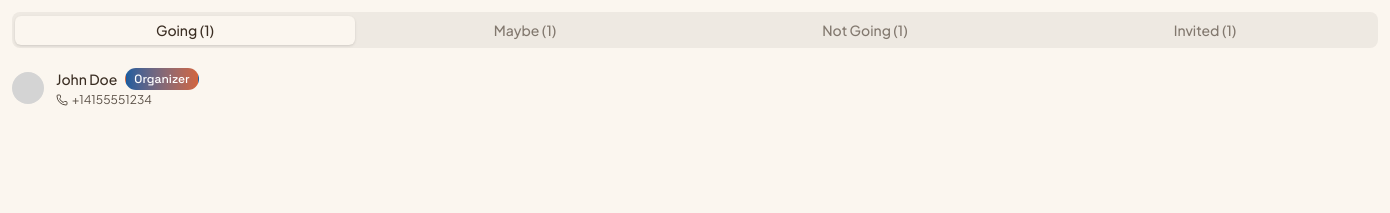
MembersList › co-organizer role management › shows promote option for regular member when organizer views
The width and height of the screenshot is (1390, 213).
// Jane Smith is on the Maybe tab
Step 1. Click the tab "Maybe (1)" → [525, 30], box [355, 16, 695, 44]
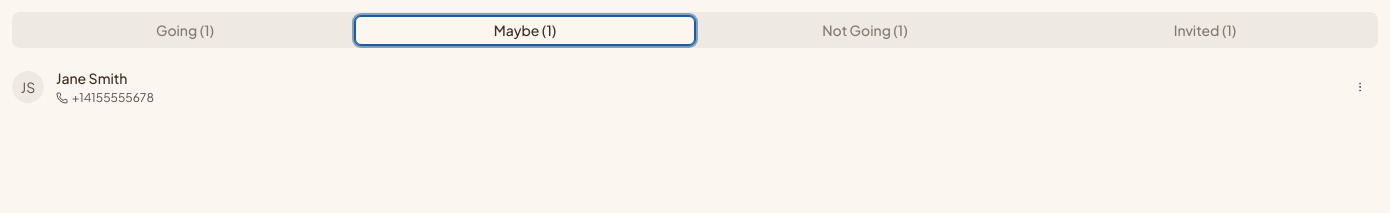
Step 2. Click the button named "Actions for Jane Smith" → [1360, 87], box [1342, 69, 1378, 105]
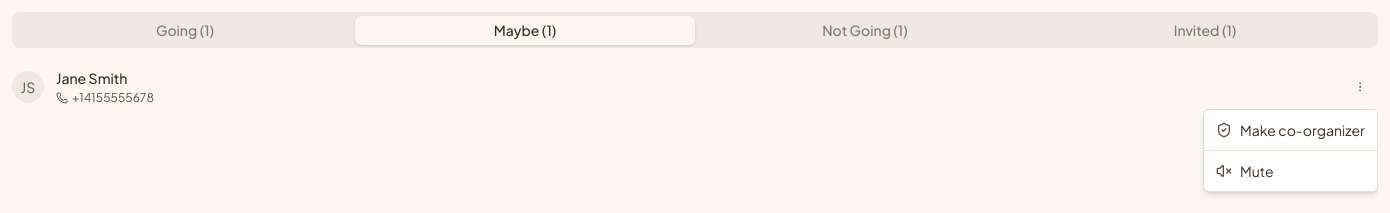
expect the menu item "Make co-organizer" is shown: met, box [1216, 121, 1365, 139]
